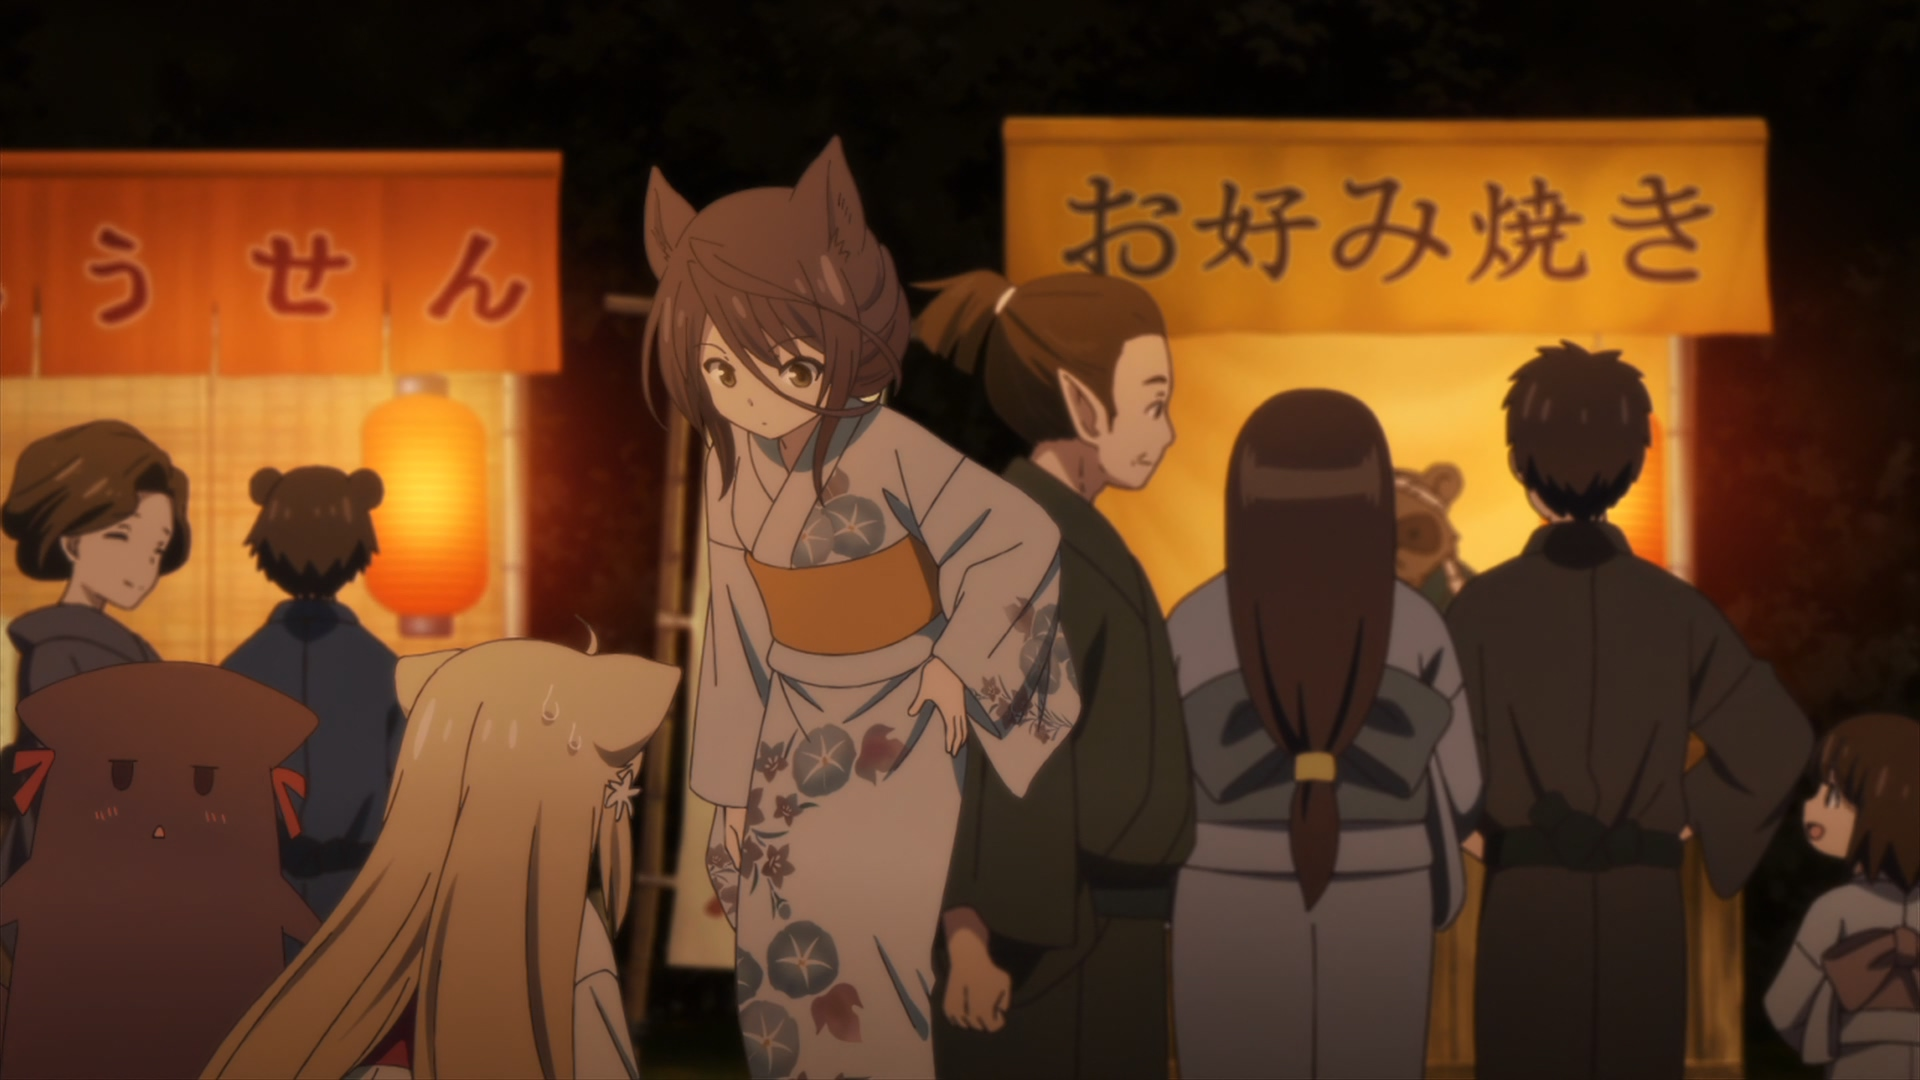其他: (1445, 339, 1807, 1080), (910, 269, 1193, 1080), (1164, 392, 1480, 1080), (222, 464, 411, 968), (1, 417, 190, 851), (1760, 713, 1920, 1080), (1393, 459, 1477, 612)
柚: (199, 612, 682, 1080)
樱: (1, 659, 324, 1080)
皋: (642, 137, 1081, 1080)
